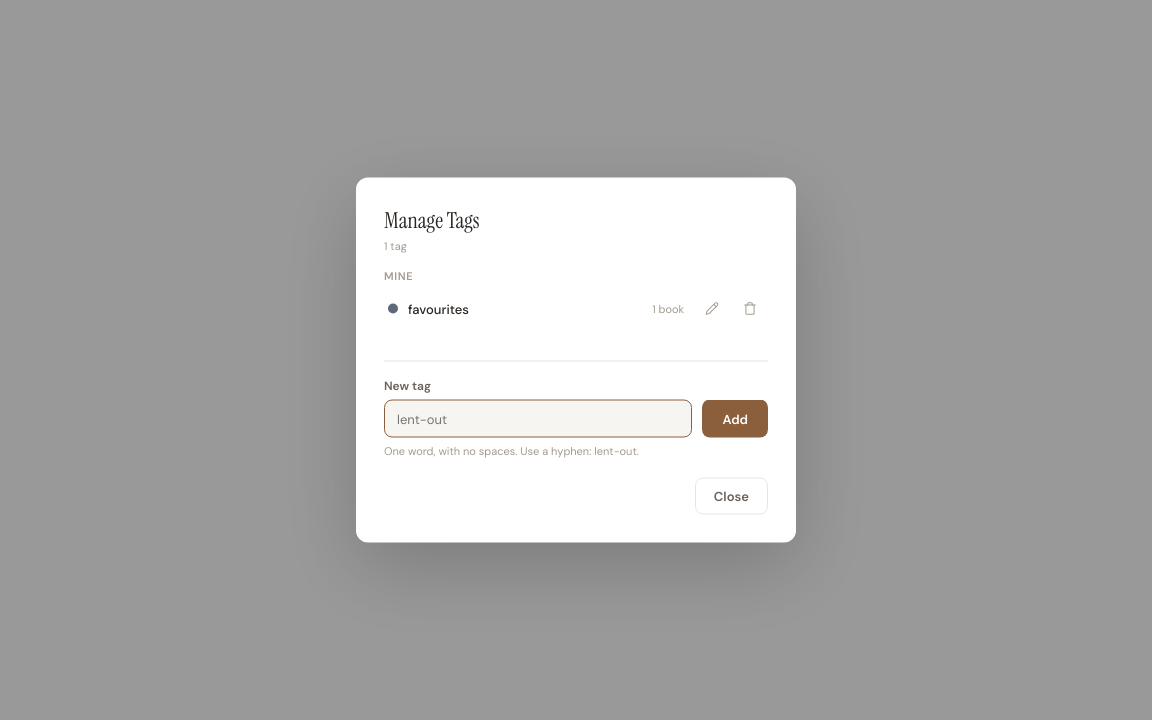
TagManager › renames a tag from the row itself
Expected: the text "favourites" is shown, 408,300 -> 469,317
Click the button named "Rename favourites" at [712, 308], box 698,294 -> 726,322
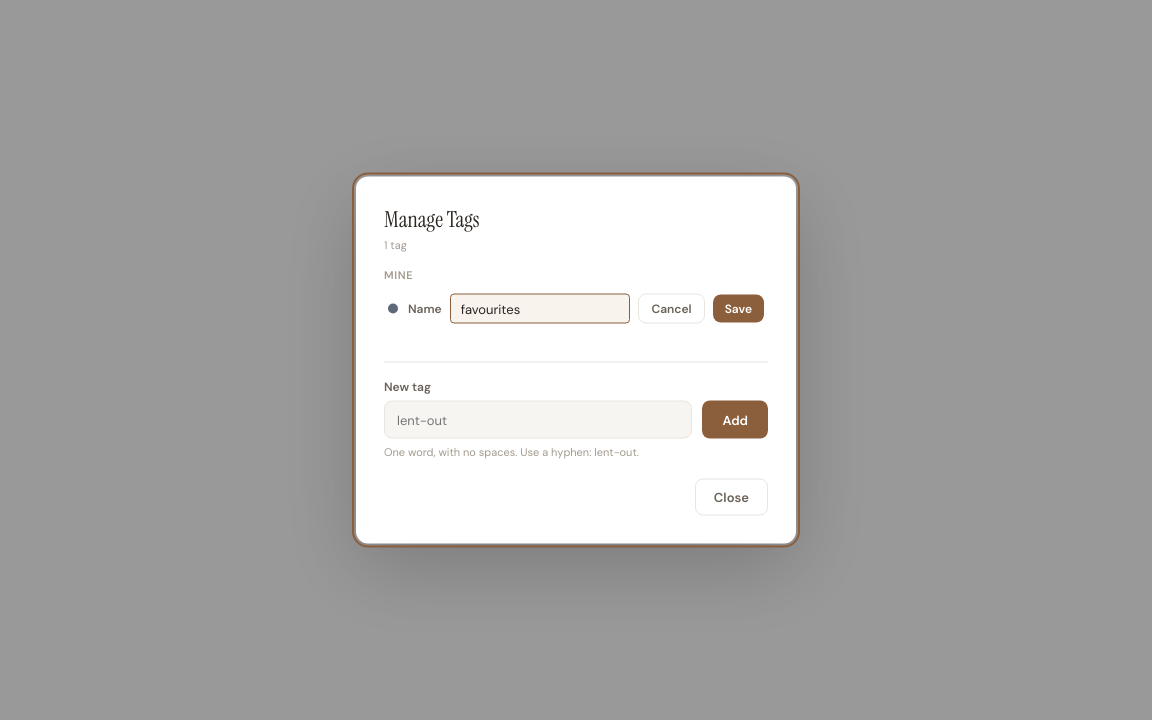
Replace the text in the field labelled "Name" with "keepers" at [540, 308], box 450,294 -> 630,324
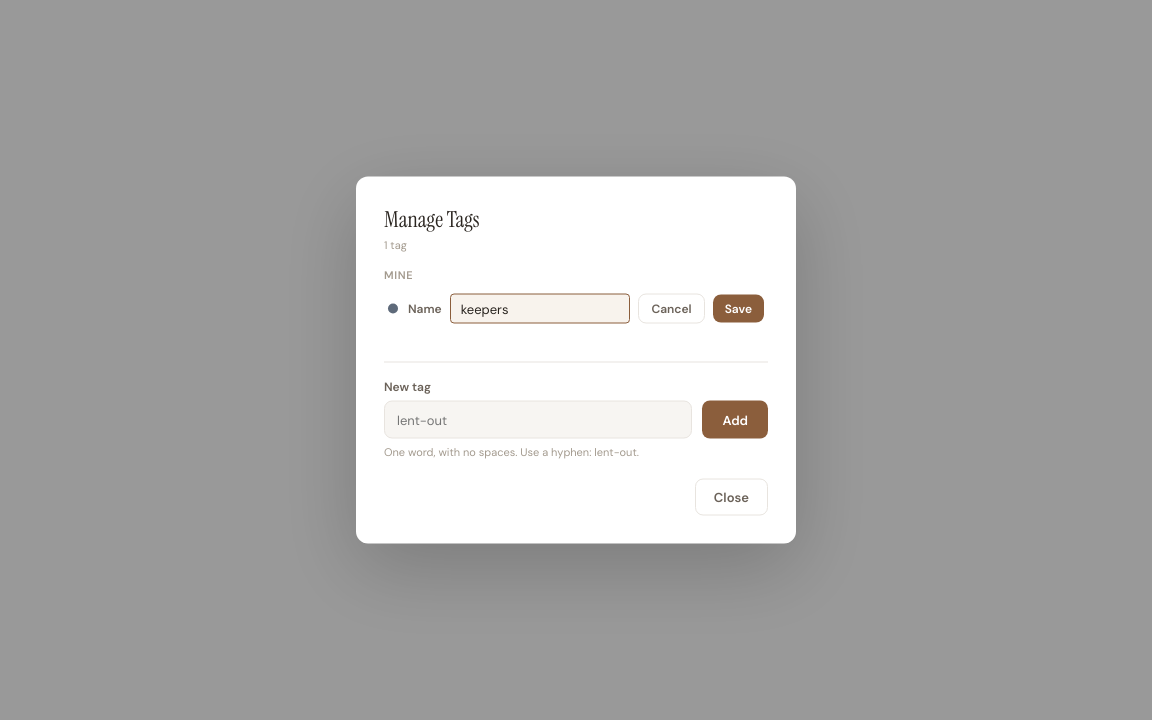
Click the button "Save" at [738, 308], box 713,294 -> 764,322
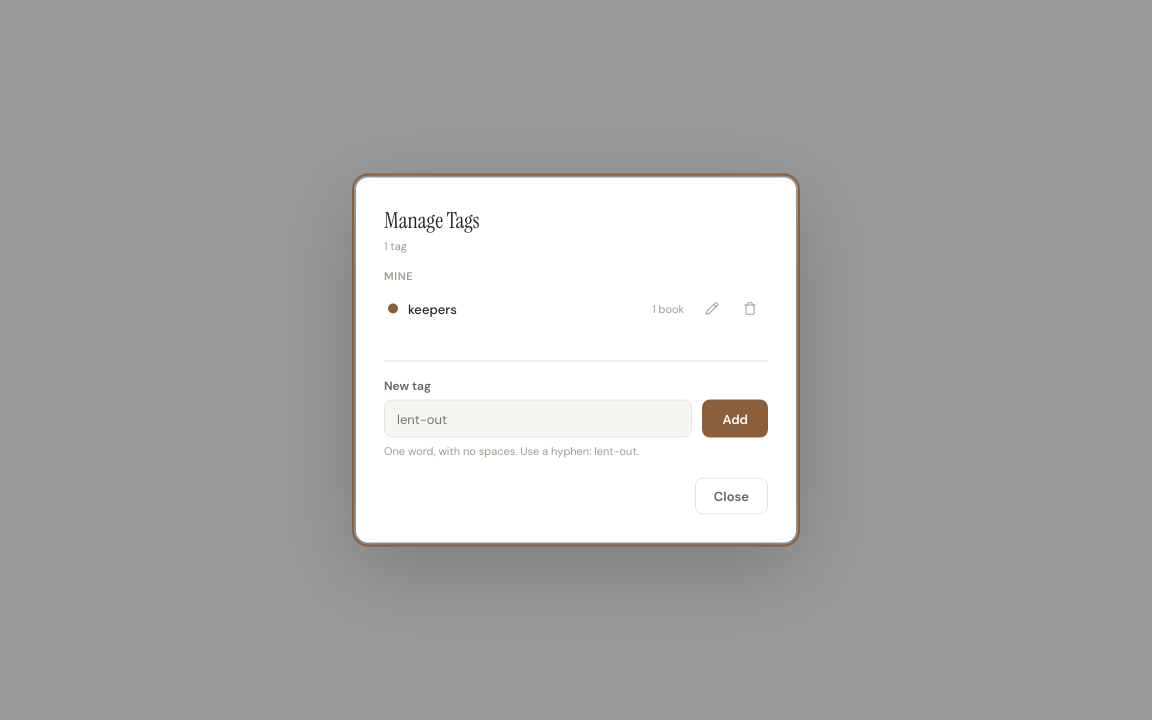
Result: the text "keepers" is shown at 408,300 -> 457,317
